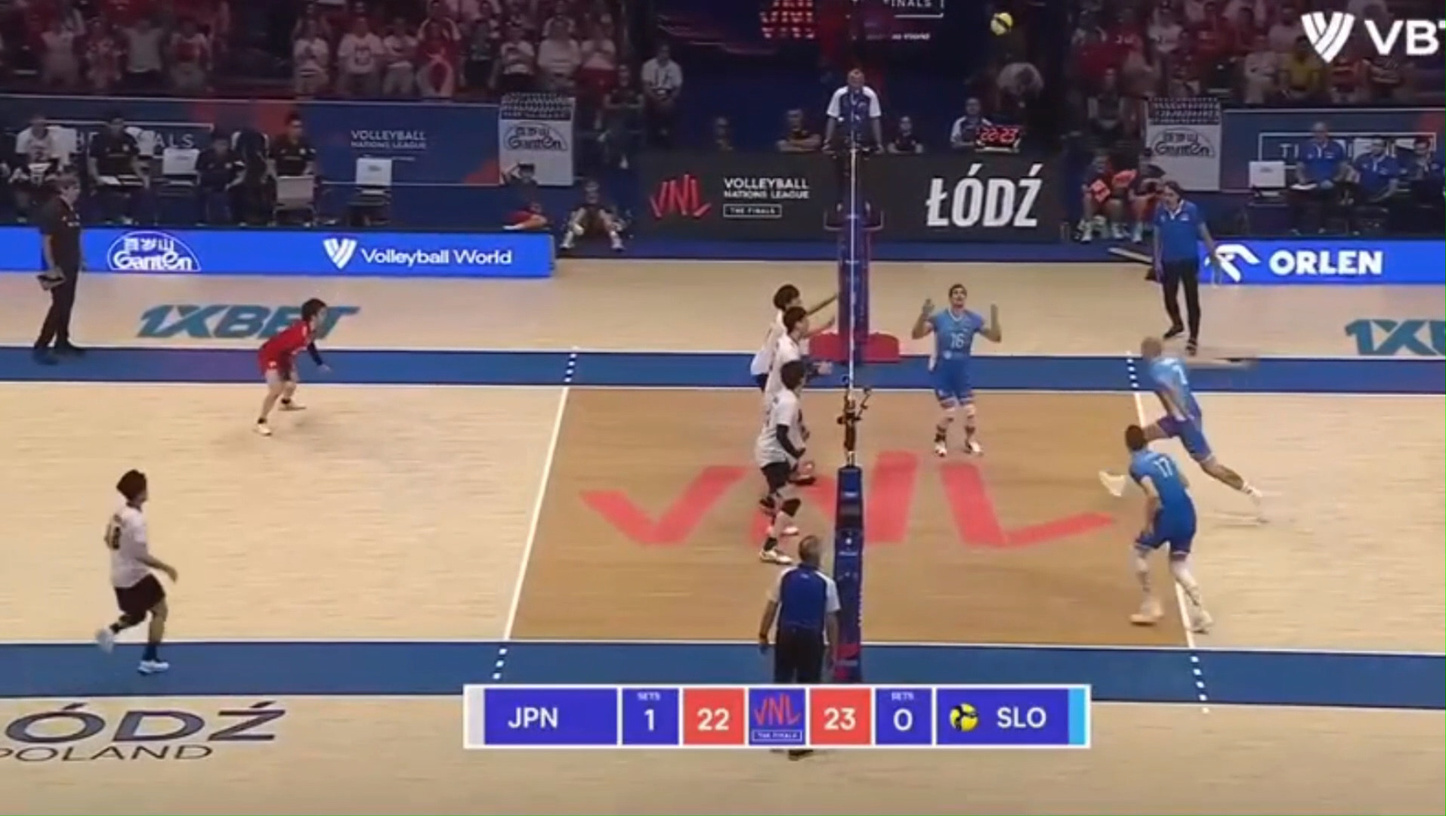ball: (990, 11, 1013, 36)
player: (1139, 336, 1259, 508), (1124, 424, 1212, 632), (911, 283, 1002, 456)
player 1: (96, 468, 178, 674), (755, 357, 808, 563), (254, 297, 328, 434), (762, 306, 811, 402), (772, 283, 836, 326), (750, 328, 781, 388)
referee: (759, 536, 840, 684), (1154, 182, 1219, 354), (823, 67, 882, 230), (32, 175, 82, 363)
